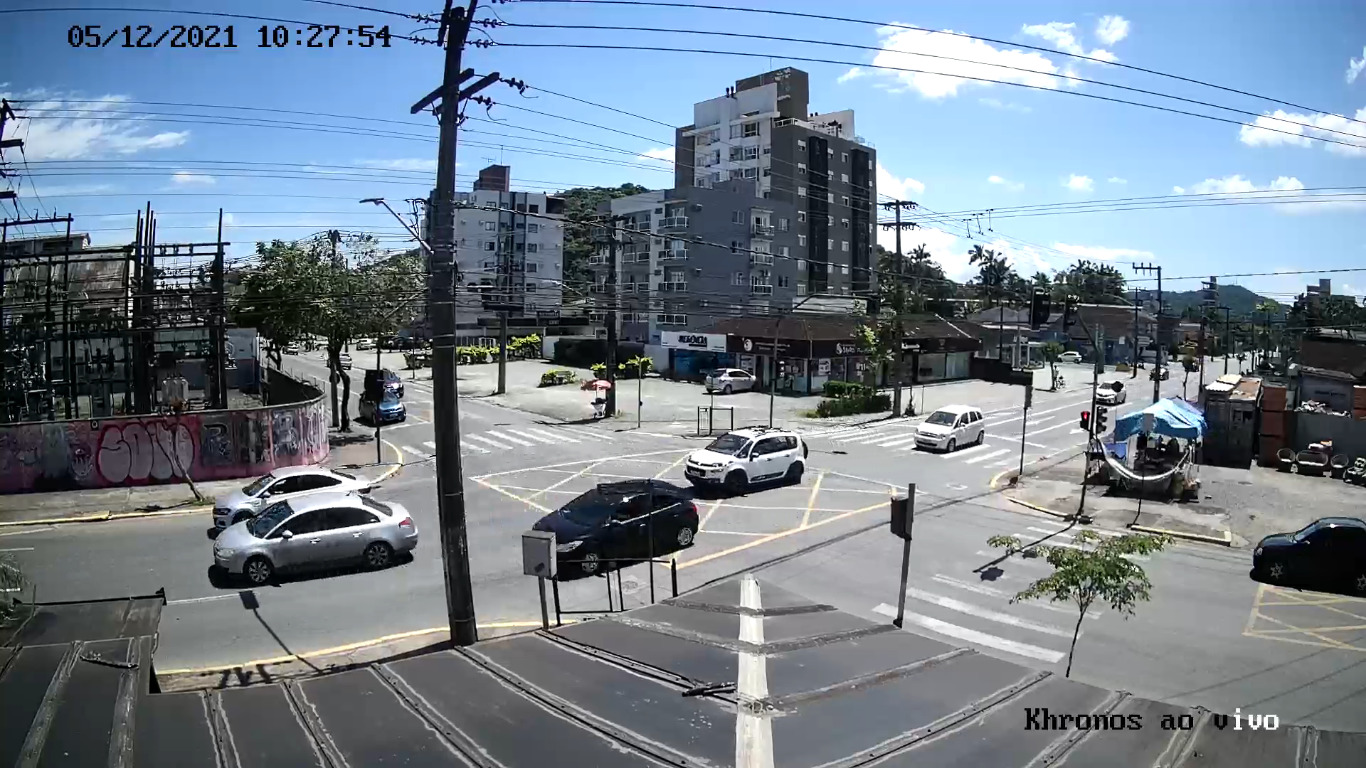car: (214, 491, 418, 585), (531, 478, 700, 576), (685, 425, 809, 494), (913, 404, 985, 451)
